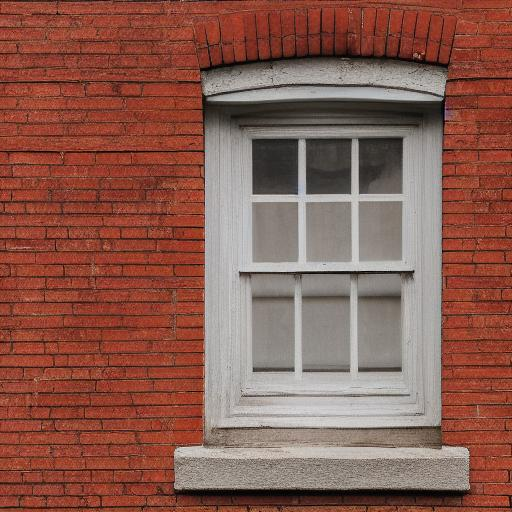Window: (174, 10, 475, 495)
